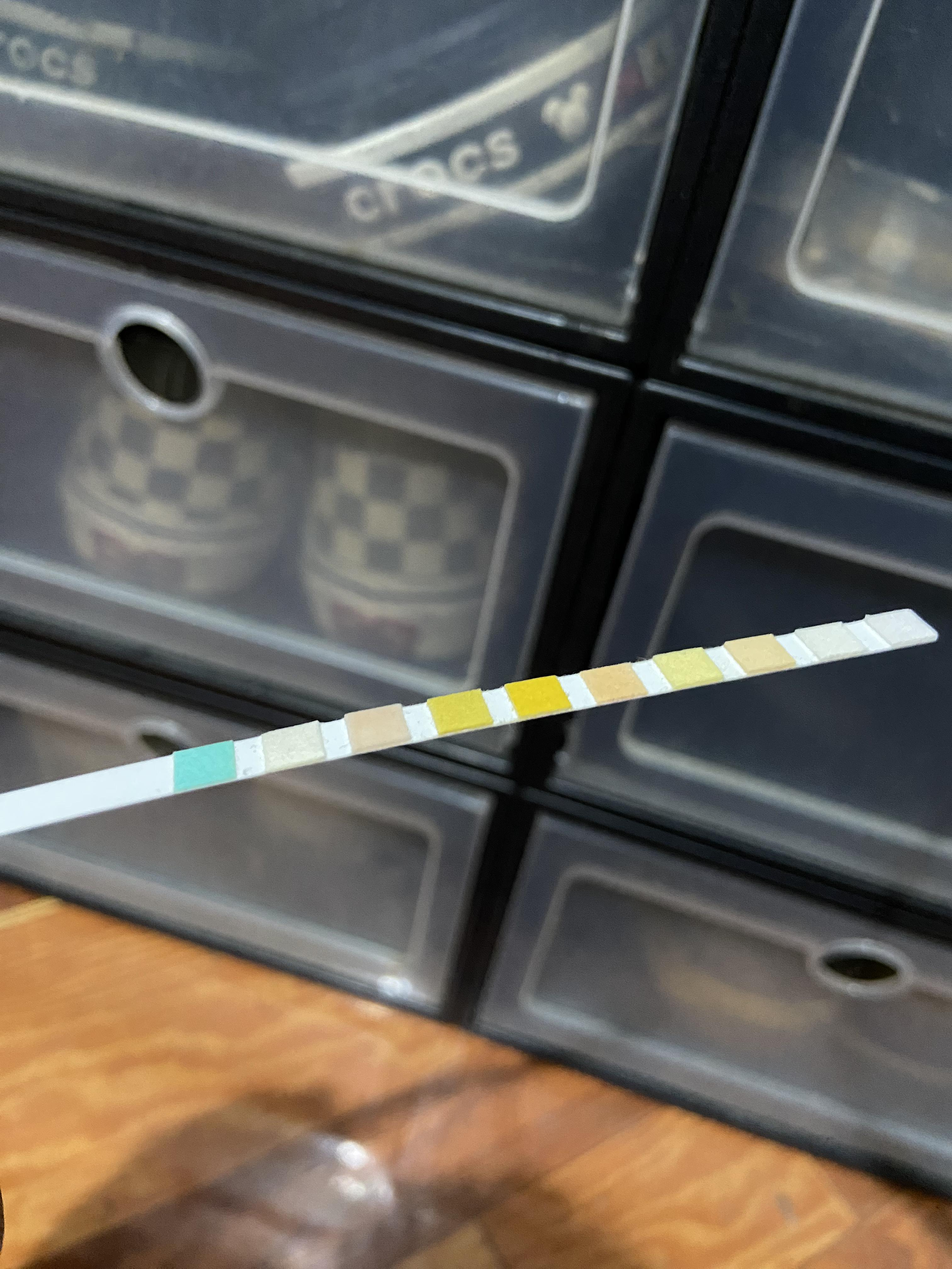Bilirubin: (267, 733, 317, 760)
Blood: (520, 683, 560, 711)
Glucose: (176, 754, 232, 782)
Ketone: (354, 712, 401, 743)
Leukocytes: (891, 611, 913, 642)
Nitrite: (819, 626, 846, 653)
Protein: (675, 652, 704, 684)
SpGravity: (439, 697, 482, 724)
Urobilinogen: (749, 637, 775, 668)
pH: (597, 669, 633, 696)
strip: (0, 608, 938, 837)
